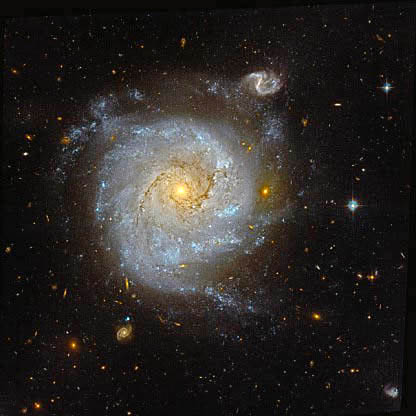NGC 1309: (61, 66, 329, 356)
